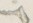microplastic: (1, 5, 30, 22)
